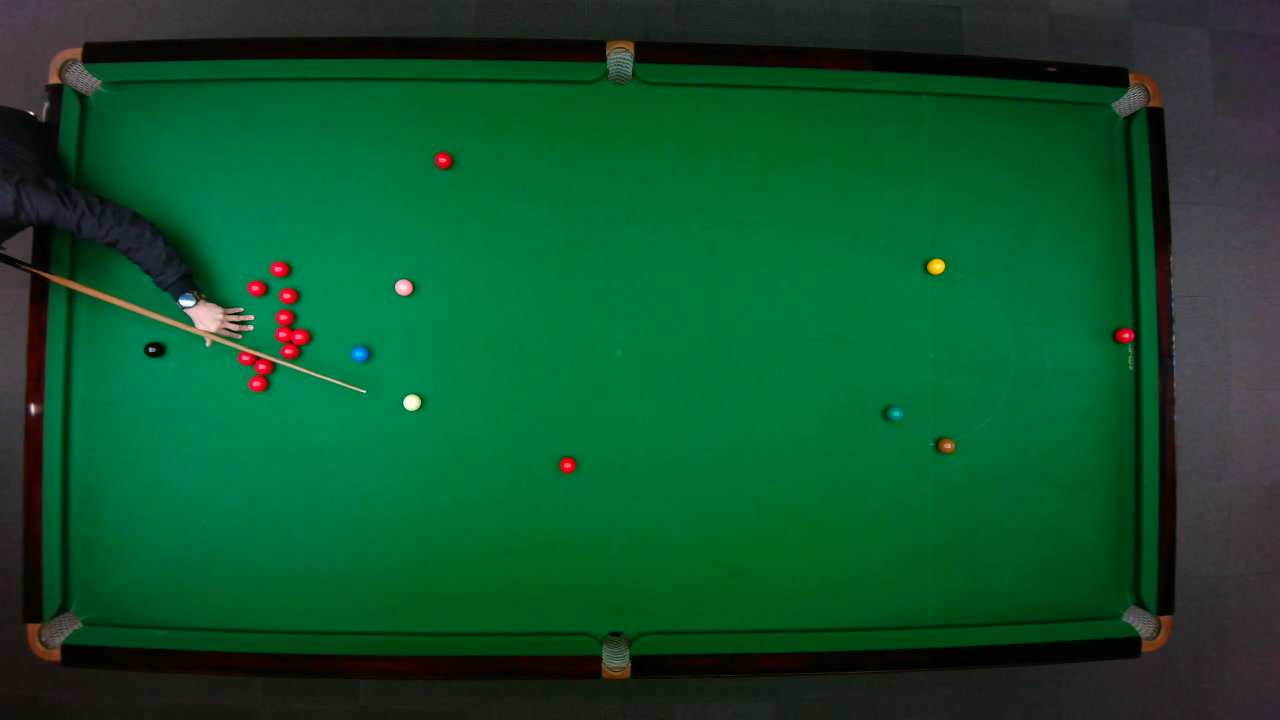bag: (25, 609, 83, 662), (45, 46, 102, 96), (1118, 603, 1171, 652), (1108, 71, 1161, 118), (600, 629, 629, 680), (605, 38, 633, 85)
black: (143, 340, 163, 358)
blue: (349, 344, 370, 362)
brown: (936, 437, 956, 453)
cue: (0, 247, 369, 395)
green: (883, 404, 904, 421)
pink: (393, 277, 413, 296)
red: (286, 326, 311, 345), (276, 286, 299, 304), (273, 307, 294, 326), (432, 150, 453, 169), (245, 278, 267, 296), (268, 259, 290, 277), (253, 356, 273, 375), (247, 374, 268, 392), (1113, 326, 1135, 343), (236, 348, 256, 366), (279, 342, 300, 359), (273, 325, 293, 342), (558, 455, 576, 473)
white: (401, 392, 422, 411)
yellow: (925, 257, 945, 274)
zone: (928, 264, 1013, 444)
